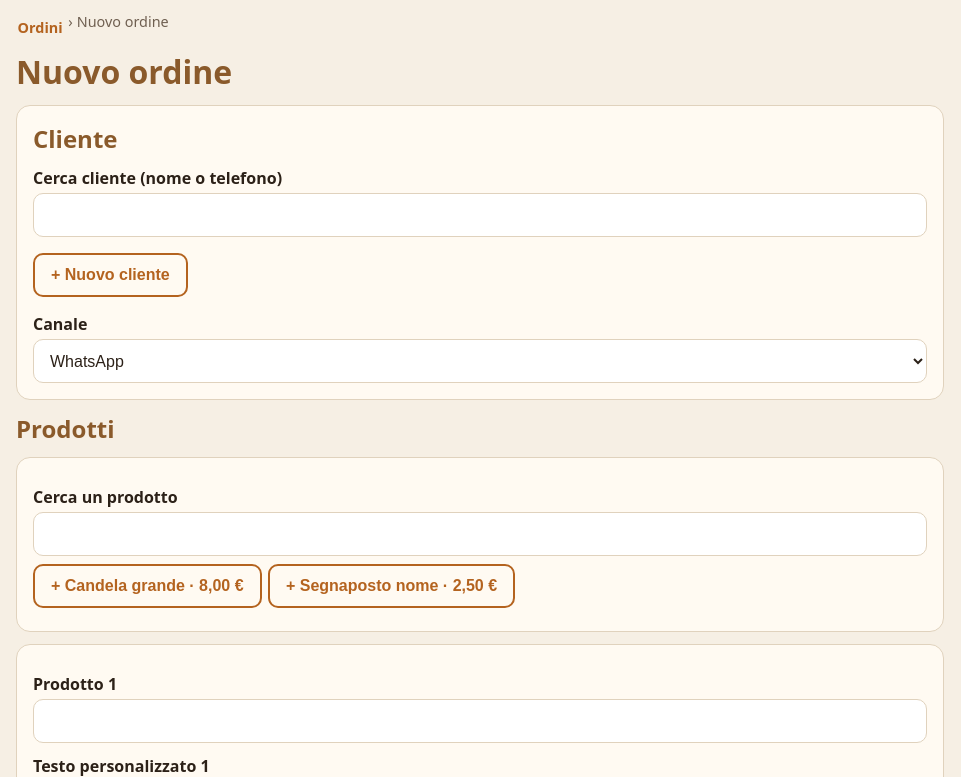
Test: la ricerca dei prodotti filtra e non mostra i prodotti disattivati
Type "SEGNA" into the field labelled "Cerca un prodotto".
click(480, 534); type("SEGNA")  # box [33,512,927,556]
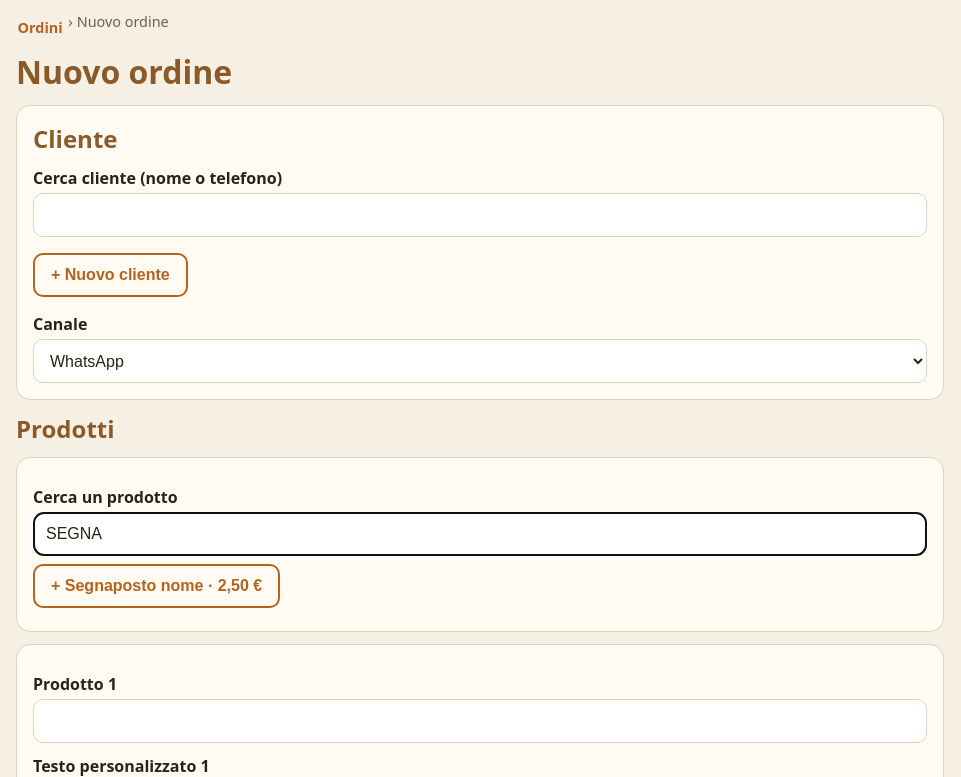
Expected: the button "+ Segnaposto nome · 2,50 €" is shown, [33,564,280,608]
Now the button "Candela grande" is gone
Replace the text in the field labelled "Cerca un prodotto" with "zzz" at (480, 534), box [33,512,927,556]
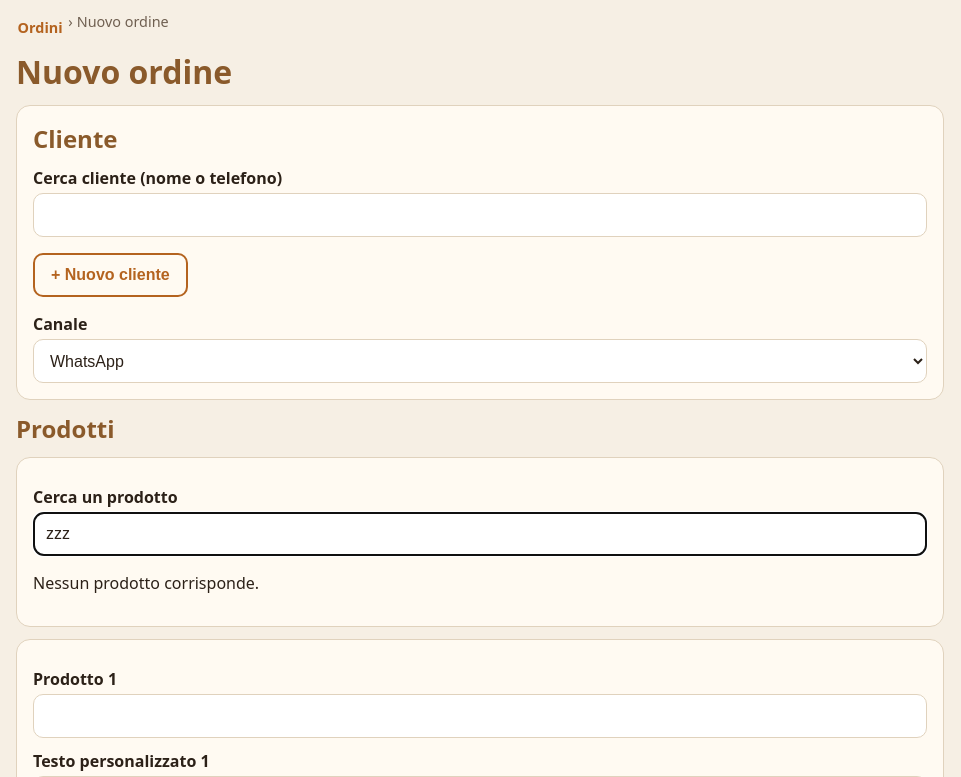
Now the text "Nessun prodotto corrisponde." is shown, box [33,572,259,594]
